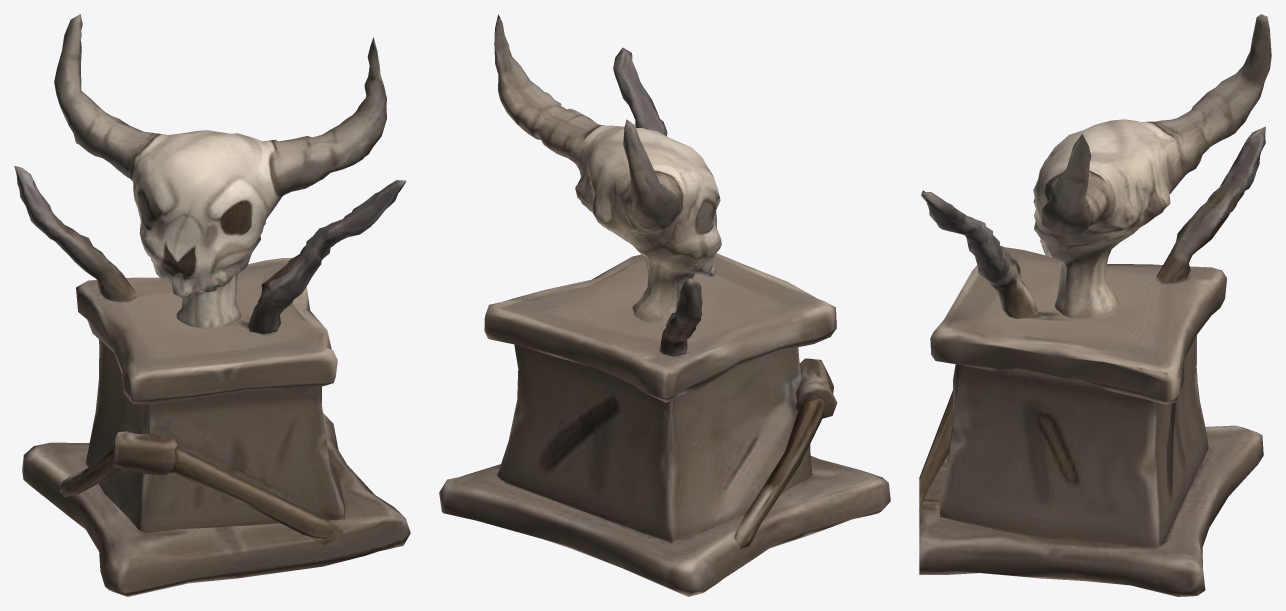
File: sd_trofeu.glb
3 renders of one model, left to right at view 1: azimuth 30°, elevation 25°; view 2: azimuth 150°, elevation 25°; view 3: azimuth 270°, elevation 25°, orthographic. The views are drawn at different scales.
Visible parts, largest first — view 1: Mesh_0.010; view 2: Mesh_0.010; view 3: Mesh_0.010.
Part boxes in pixels (bbox=[...]): Mesh_0.010: bbox=[14, 14, 410, 596]; Mesh_0.010: bbox=[439, 14, 890, 596]; Mesh_0.010: bbox=[919, 14, 1271, 596].
Bounding box in the file's own units: 0.1799 × 0.2449 × 0.1628.
Materials: 1 (1 with a texture image).
